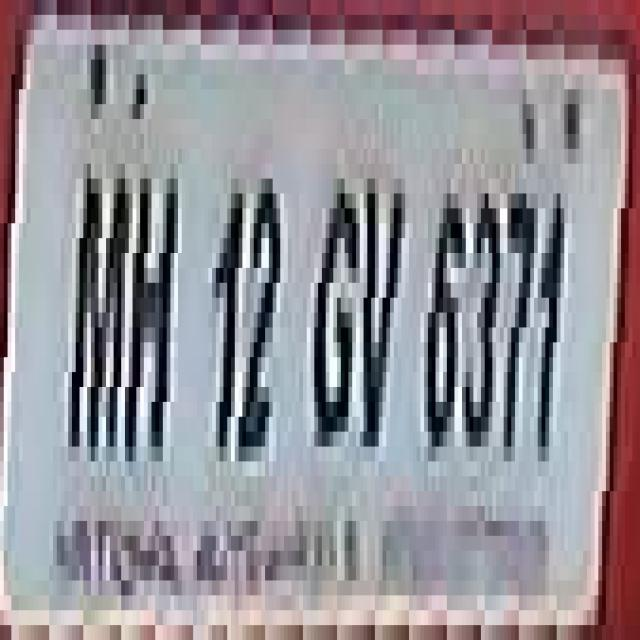license_plate: (22, 59, 640, 595)
